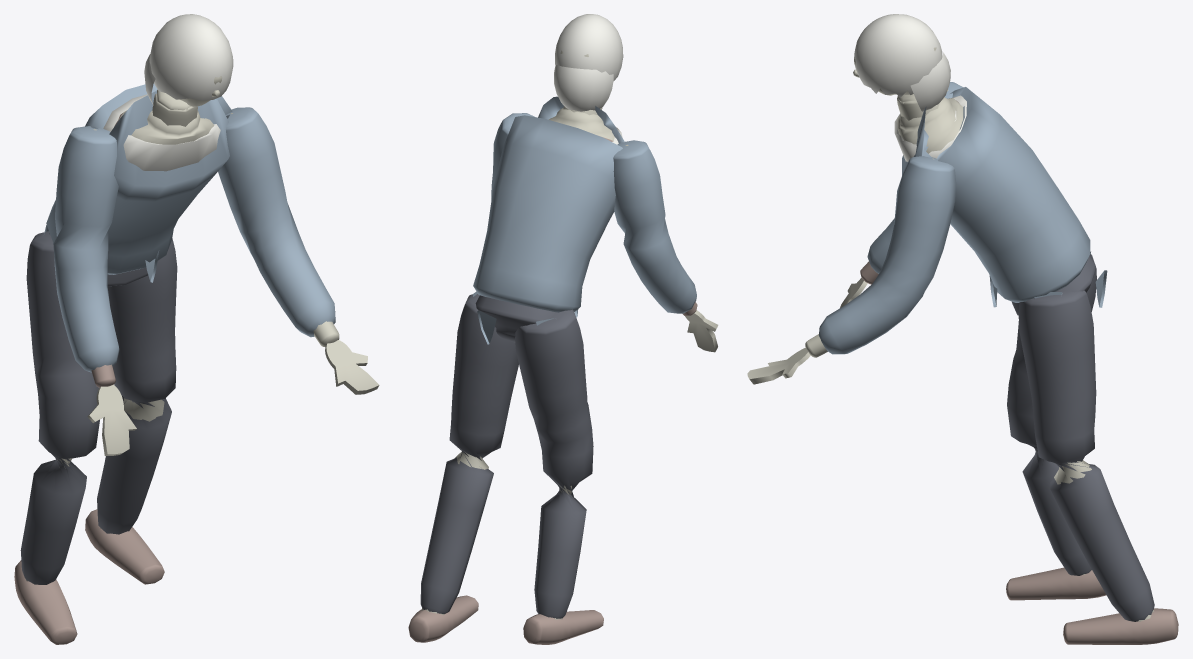
Rendered from undead-horde-and-infected-variants-walker-elderly-resi-699fc0c4__11989.glb.
3 views of the same model, side by side, from view 1: azimuth 30°, elevation 25°; view 2: azimuth 150°, elevation 25°; view 3: azimuth 270°, elevation 25° (orthographic). The views are drawn at different scales.
Visible parts, largest first — view 1: walker-elderly-resident; view 2: walker-elderly-resident; view 3: walker-elderly-resident.
Part boxes in pixels (<box>): walker-elderly-resident: <box>14,14,379,644</box>; walker-elderly-resident: <box>408,14,718,644</box>; walker-elderly-resident: <box>747,14,1178,644</box>.
Bounding box in the file's own units: 0.5859 × 1.5 × 0.9548.
